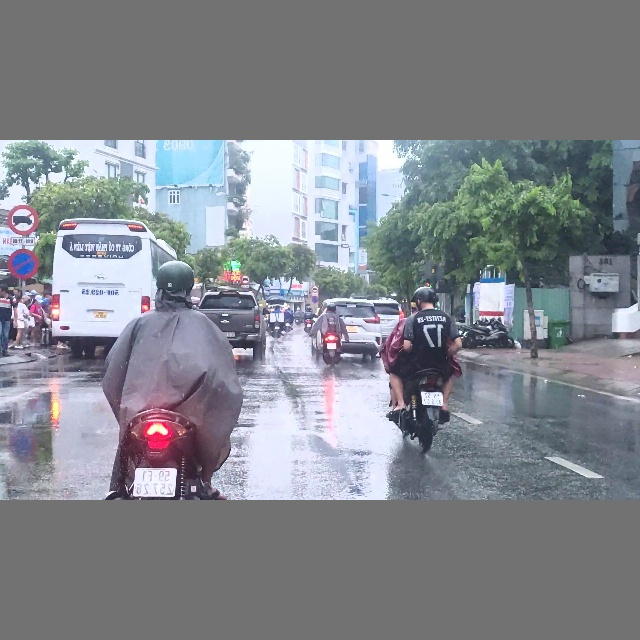P.106a*Xe tai: (7, 204, 39, 236), (240, 275, 250, 284), (312, 285, 319, 293)
P.131a: (7, 247, 38, 280), (311, 296, 318, 303)
